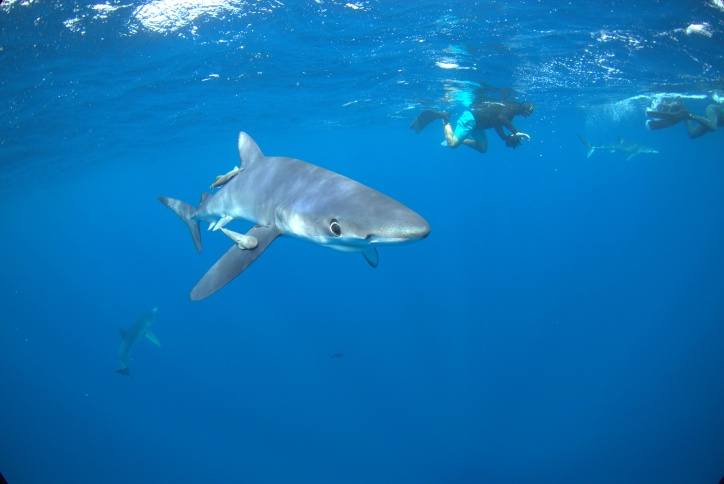Azul: (131, 121, 432, 307)
